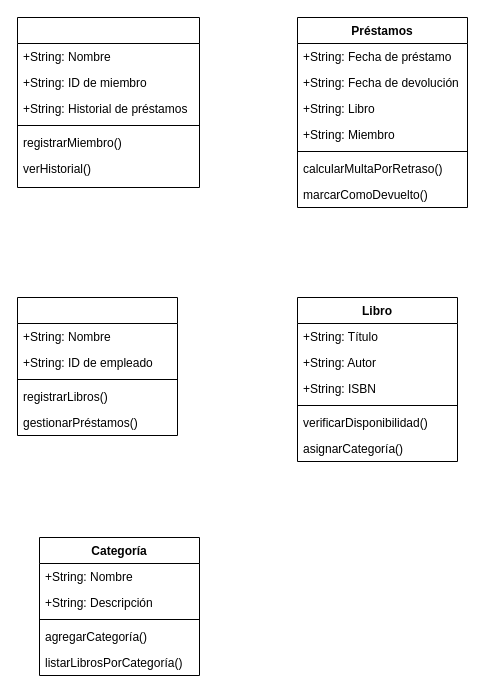
The diagram is 485 pixels wide and 696 high, and some of its shapes have lost their labels. Each missing label, with the box of its shape:
Bibliotecario: (16, 296, 178, 436)
Miembros: (16, 16, 200, 188)
